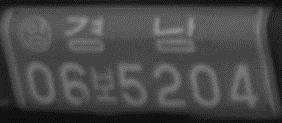0: (187, 62, 222, 108), (24, 60, 57, 105)
2: (153, 62, 187, 108)
4: (228, 62, 261, 109)
5: (117, 60, 149, 107)
6: (57, 59, 92, 107)
경남_D: (63, 12, 198, 56)
보: (89, 64, 119, 106)
영: (17, 14, 53, 54)
